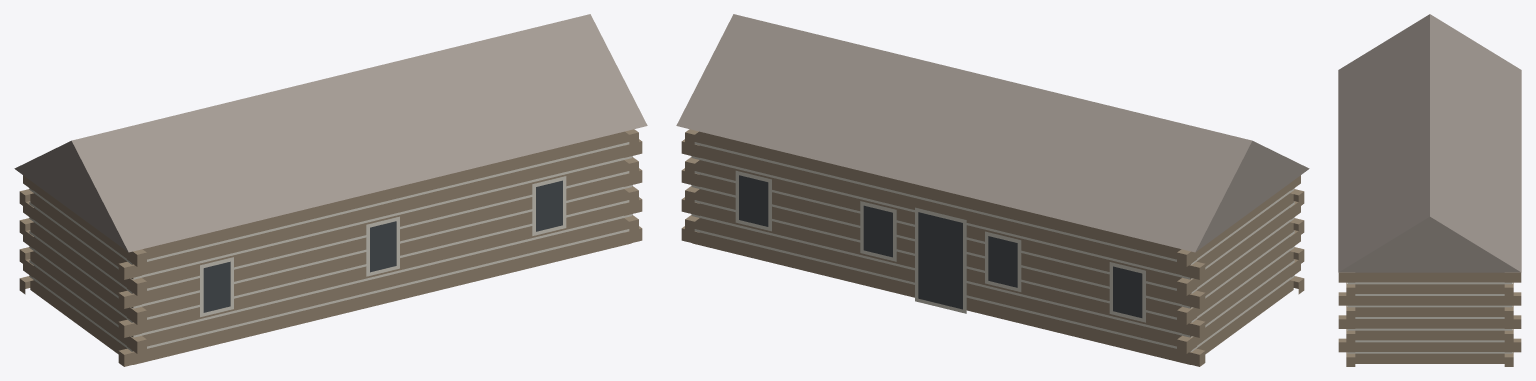
File: fort_dearborn_store_house__log_1816.glb
The picture shows the model from 3 angles, left to right: view 1: azimuth 30°, elevation 25°; view 2: azimuth 150°, elevation 25°; view 3: azimuth 270°, elevation 25°; orthographic projection. The views are drawn at different scales.
Parts seen in each view (by area): view 1: fort_dearborn_store_house__log_1816; view 2: fort_dearborn_store_house__log_1816; view 3: fort_dearborn_store_house__log_1816.
Part boxes in pixels (bbox=[...]): fort_dearborn_store_house__log_1816: bbox=[14, 14, 647, 366]; fort_dearborn_store_house__log_1816: bbox=[676, 14, 1309, 366]; fort_dearborn_store_house__log_1816: bbox=[1338, 14, 1521, 366].
Size of the model in its own units: 12.74 by 4.51 by 4.87.
